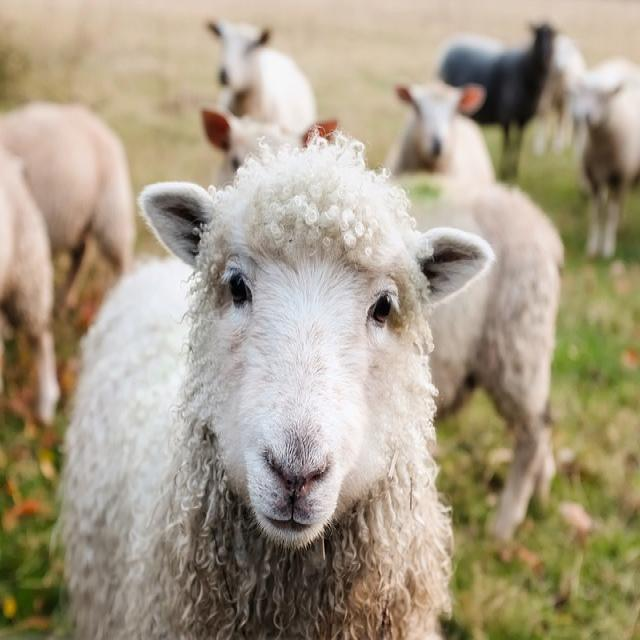goat: (61, 135, 492, 638), (389, 82, 564, 540), (0, 103, 131, 422), (439, 23, 556, 179), (571, 58, 640, 258), (208, 23, 316, 132)
